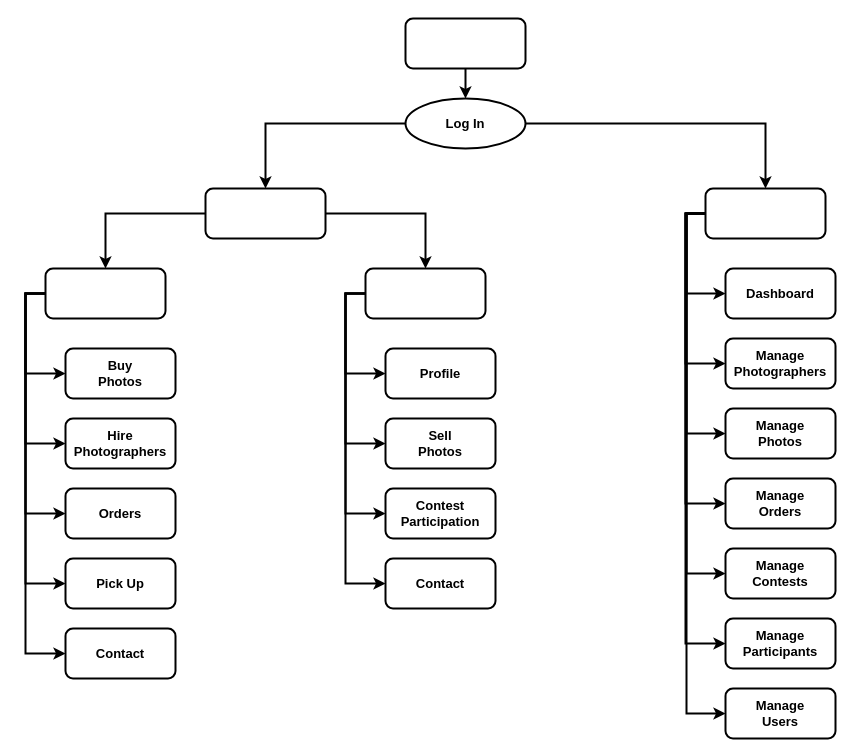
The diagram is 853 pixels wide and 756 high, and some of its shapes have lost their labels. The shapes that lost their labels are listed below. From the top down, each one's centre as x and y in pixels, then its label:
pixel 465 43: Home
pixel 265 213: Users
pixel 765 213: Admin
pixel 105 293: Customer
pixel 425 293: Photographers
